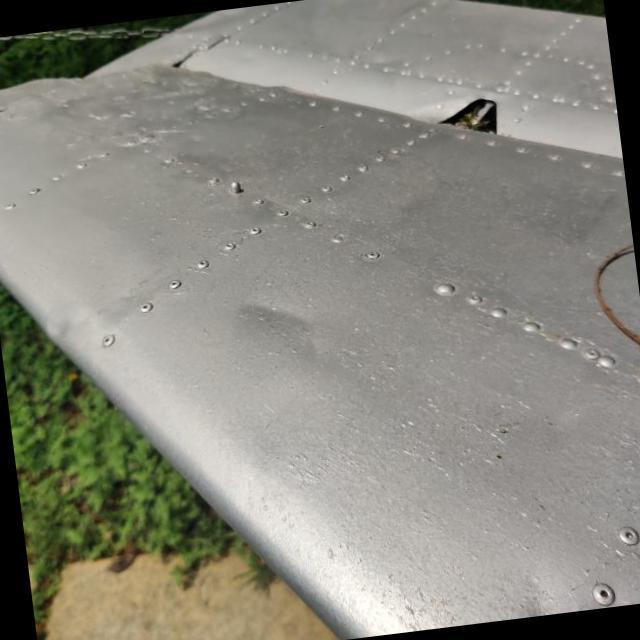Dent: (207, 258, 347, 378), (10, 285, 104, 378)
